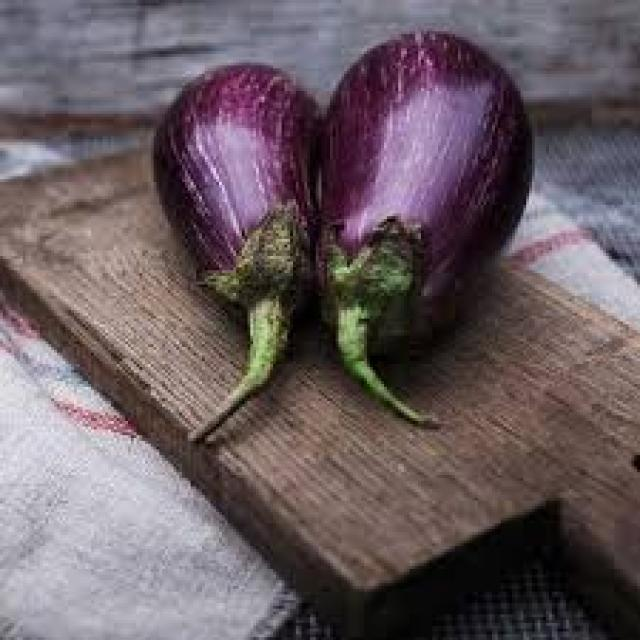Organik: (321, 23, 531, 330), (168, 58, 313, 312)
